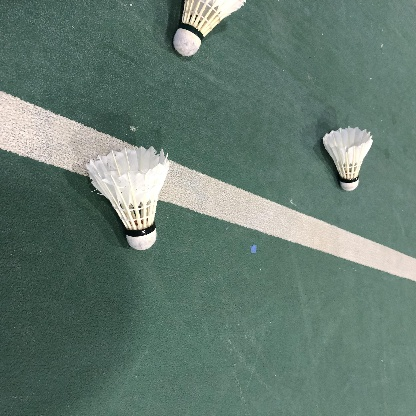ball_single: (86, 146, 169, 250), (173, 0, 246, 56), (323, 126, 373, 191)
